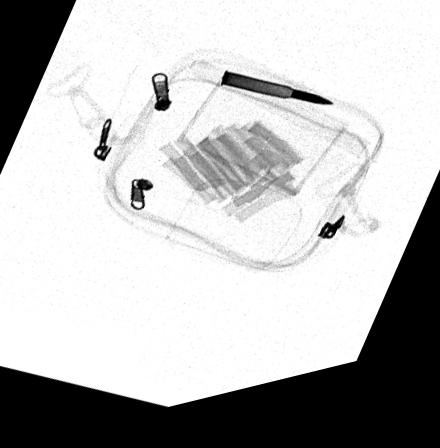Bullet: (217, 81, 336, 121)
